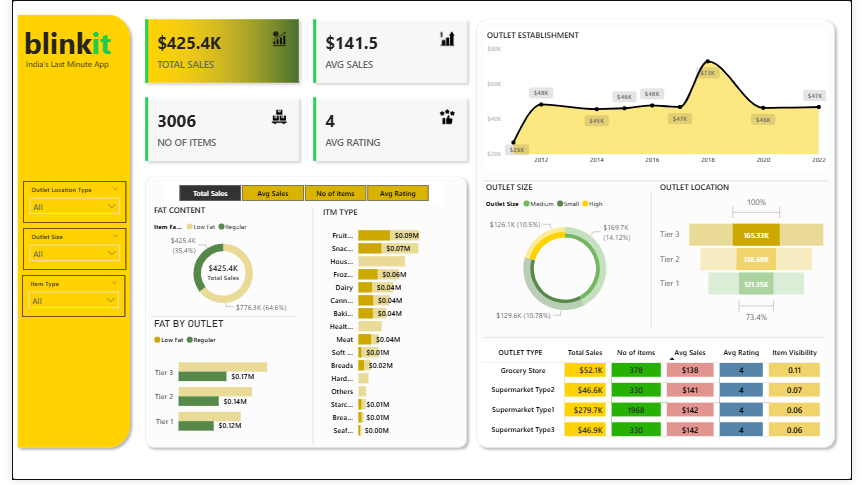

Layout of this report page (visuals, bound fields, positions):
{"tool":"powerbi","page":{"name":"Page 1","canvas":[1400,800],"ordinal":0},"visuals":[{"type":"shape","box":[0,14.7,205.8,740.4],"z":0},{"type":"textbox","box":[14.7,33.1,170.9,91.9],"z":1000},{"type":"textbox","box":[253.5,525.5,205.8,229.7],"z":2000},{"type":"textbox","box":[18.8,93.8,161.2,40],"z":3000},{"type":"cardVisual","fields":{"Data":["BlinkIT Grocery Data.Total Sales","BlinkIT Grocery Data.Avg Sales","BlinkIT Grocery Data.No of items","BlinkIT Grocery Data.Avg Rating"]},"box":[205,15,570,270],"z":4000},{"type":"shape","box":[213.3,285,553.3,470],"z":5000},{"type":"donutChart","title":"FAT CONTENT","fields":{"Y":["BlinkIT Grocery Data.Total Sales"],"Category":["BlinkIT Grocery Data.Item Fat Content"]},"box":[231.6,341.8,240.5,183.5],"z":6000},{"type":"slicer","fields":{"Values":["Metrics.Metrics"]},"box":[253.3,301.7,465,40],"z":7000},{"type":"cardVisual","fields":{"Data":["BlinkIT Grocery Data.Total Sales"]},"box":[302.5,420.3,97.5,58.2],"z":8000},{"type":"clusteredBarChart","title":"FAT BY OUTLET","fields":{"Y":["BlinkIT Grocery Data.Total Sales"],"Category":["BlinkIT Grocery Data.Outlet Location Type"],"Series":["BlinkIT Grocery Data.Item Fat Content"]},"box":[231.1,527.8,241.1,212.2],"z":9000},{"type":"shape","box":[231.1,512.2,240,31.1],"z":10000},{"type":"shape","box":[490,345,23.3,396.7],"z":11000},{"type":"barChart","title":"ITM TYPE","fields":{"Y":["BlinkIT Grocery Data.Total Sales"],"Category":["BlinkIT Grocery Data.Item Type"]},"box":[513.3,345.6,205.6,394.4],"z":12000},{"type":"shape","box":[765,23.3,615,731.7],"z":13000},{"type":"lineChart","title":"OUTLET ESTABLISHMENT","fields":{"Y":["BlinkIT Grocery Data.Total Sales"],"Category":["BlinkIT Grocery Data.Outlet Establishment Year"]},"box":[786.7,50,575,235],"z":14000},{"type":"shape","box":[785.7,285.7,575.7,32.9],"z":15000},{"type":"donutChart","title":"OUTLET  SIZE","fields":{"Y":["BlinkIT Grocery Data.Total Sales"],"Category":["BlinkIT Grocery Data.Outlet Size"]},"box":[785.7,302.9,272.9,244.3],"z":16000},{"type":"shape","box":[1058.6,318.6,14.3,228.6],"z":17000},{"type":"funnel","title":"OUTLET LOCATION","fields":{"Y":["Sum(BlinkIT Grocery Data.Sales)"],"Category":["BlinkIT Grocery Data.Outlet Location Type"]},"box":[1074.3,302.9,287.1,240],"z":18000},{"type":"pivotTable","fields":{"Rows":["BlinkIT Grocery Data.Outlet Type"],"Values":["BlinkIT Grocery Data.Total Sales","BlinkIT Grocery Data.No of items","BlinkIT Grocery Data.Avg Sales","BlinkIT Grocery Data.Avg Rating","Avg(BlinkIT Grocery Data.Item Visibility)"]},"box":[778.3,570,575,170],"z":19000},{"type":"shape","box":[786.7,546.7,566.7,31.7],"z":20000},{"type":"slicer","fields":{"Values":["BlinkIT Grocery Data.Outlet Location Type"]},"box":[18.3,301.7,171.7,70],"z":20001},{"type":"slicer","fields":{"Values":["BlinkIT Grocery Data.Outlet Size"]},"box":[18.3,380,171.7,70],"z":20002},{"type":"slicer","fields":{"Values":["BlinkIT Grocery Data.Item Type"]},"box":[17.1,457.7,171.5,69.9],"z":20003}]}

Visuals, with their boxes in screenshot pixels (x1, y1, x2, y2), scaled from the page's 1400x800 canvas onto the 868x485 screenshot:
shape: left=0, top=9, right=128, bottom=458
textbox: left=9, top=20, right=115, bottom=76
textbox: left=157, top=319, right=285, bottom=458
textbox: left=12, top=57, right=112, bottom=81
cardVisual - BlinkIT Grocery Data.Total Sales x BlinkIT Grocery Data.Avg Sales: left=127, top=9, right=480, bottom=173
shape: left=132, top=173, right=475, bottom=458
"FAT CONTENT" donutChart: left=144, top=207, right=293, bottom=318
slicer - Metrics.Metrics: left=157, top=183, right=445, bottom=207
cardVisual - BlinkIT Grocery Data.Total Sales: left=188, top=255, right=248, bottom=290
"FAT BY OUTLET" clusteredBarChart: left=143, top=320, right=293, bottom=449
shape: left=143, top=311, right=292, bottom=329
shape: left=304, top=209, right=318, bottom=450
"ITM TYPE" barChart: left=318, top=210, right=446, bottom=449
shape: left=474, top=14, right=856, bottom=458
"OUTLET ESTABLISHMENT" lineChart: left=488, top=30, right=844, bottom=173
shape: left=487, top=173, right=844, bottom=193
"OUTLET  SIZE" donutChart: left=487, top=184, right=656, bottom=332
shape: left=656, top=193, right=665, bottom=332
"OUTLET LOCATION" funnel: left=666, top=184, right=844, bottom=329
pivotTable - BlinkIT Grocery Data.Outlet Type x BlinkIT Grocery Data.Total Sales: left=483, top=346, right=839, bottom=449
shape: left=488, top=331, right=839, bottom=351
slicer - BlinkIT Grocery Data.Outlet Location Type: left=11, top=183, right=118, bottom=225
slicer - BlinkIT Grocery Data.Outlet Size: left=11, top=230, right=118, bottom=273
slicer - BlinkIT Grocery Data.Item Type: left=11, top=277, right=117, bottom=320
